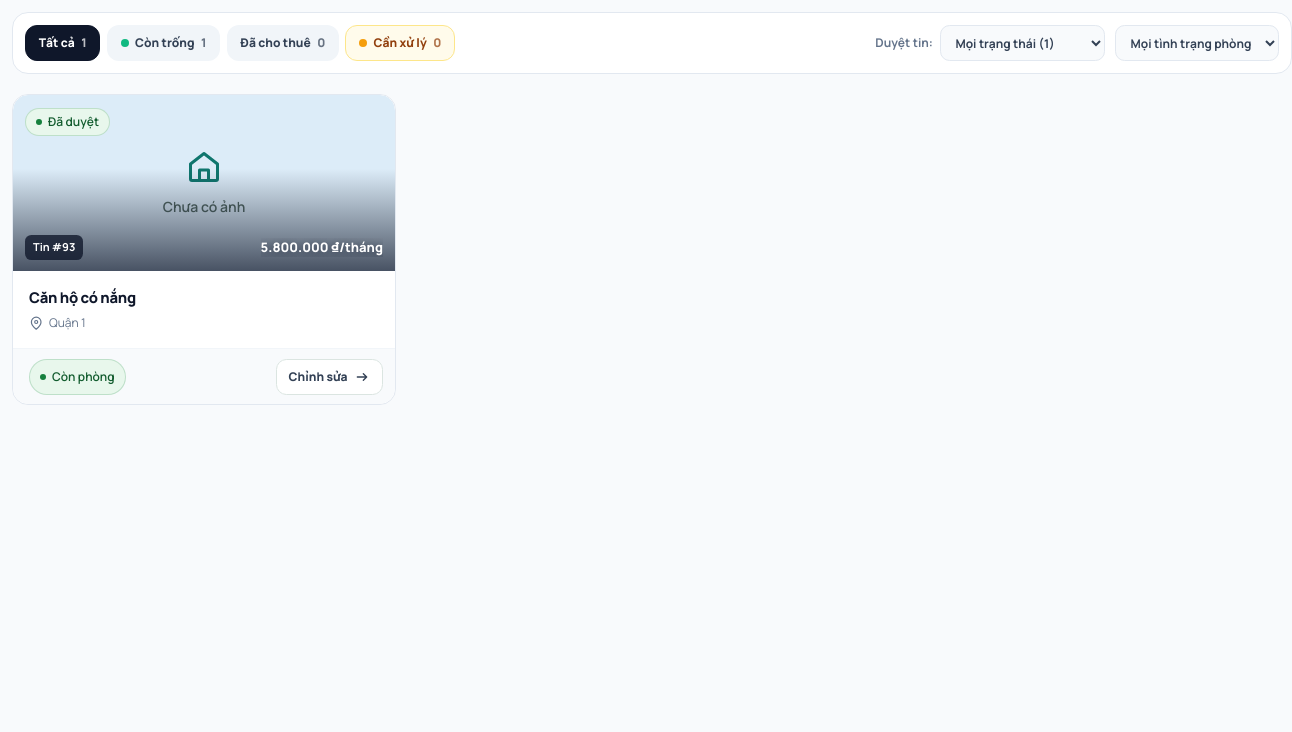
Test: OwnerListingsPage › opens a selected listing in the quick inspection panel and closes it without changing the route
The width and height of the screenshot is (1292, 732).
Click the button with aria-label "Xem chi tiết chỗ ở: Căn hộ có nắng" at (204, 183), box [13,95,395,271]
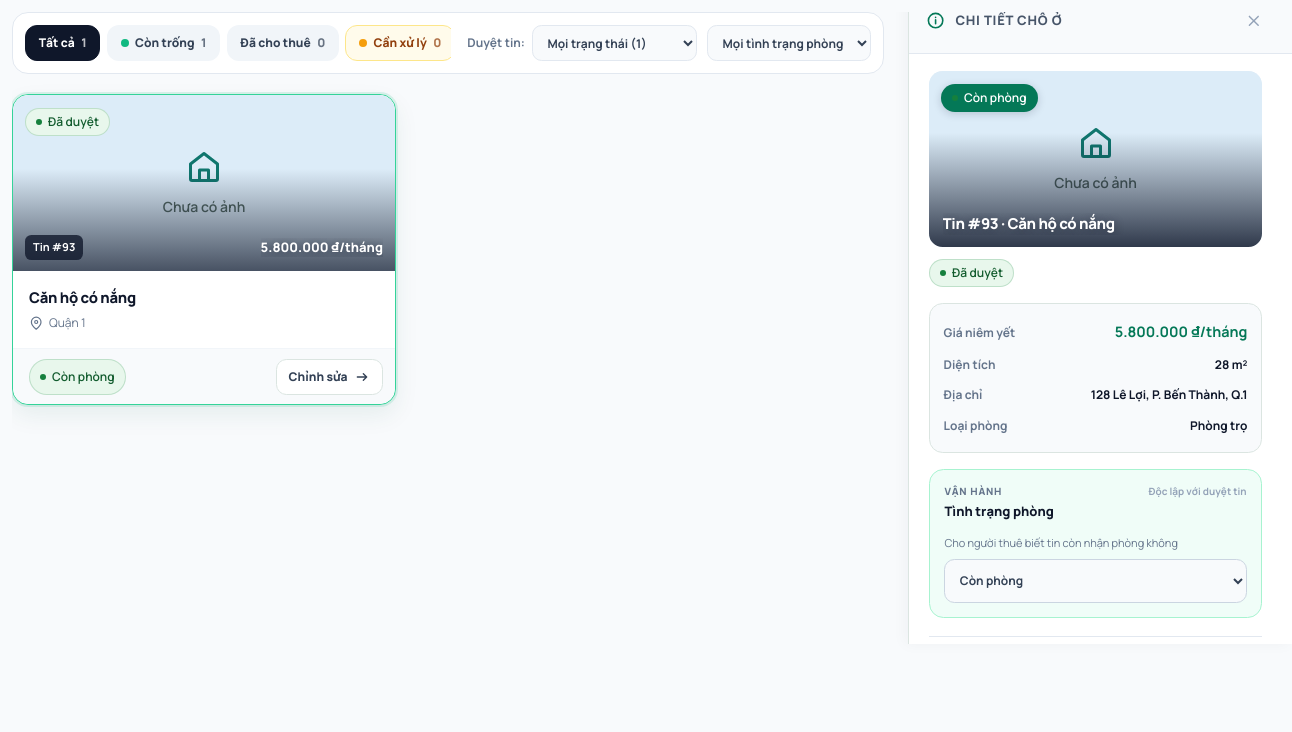
Expected: the text "128 Lê Lợi, P. Bến Thành, Q.1" is shown, [1091,386,1247,403]
Expected: the text "5.800.000 ₫/tháng" is shown, [1115,322,1247,341]
Expected: the text "Phòng trọ" is shown, [1190,417,1247,434]
Press Escape
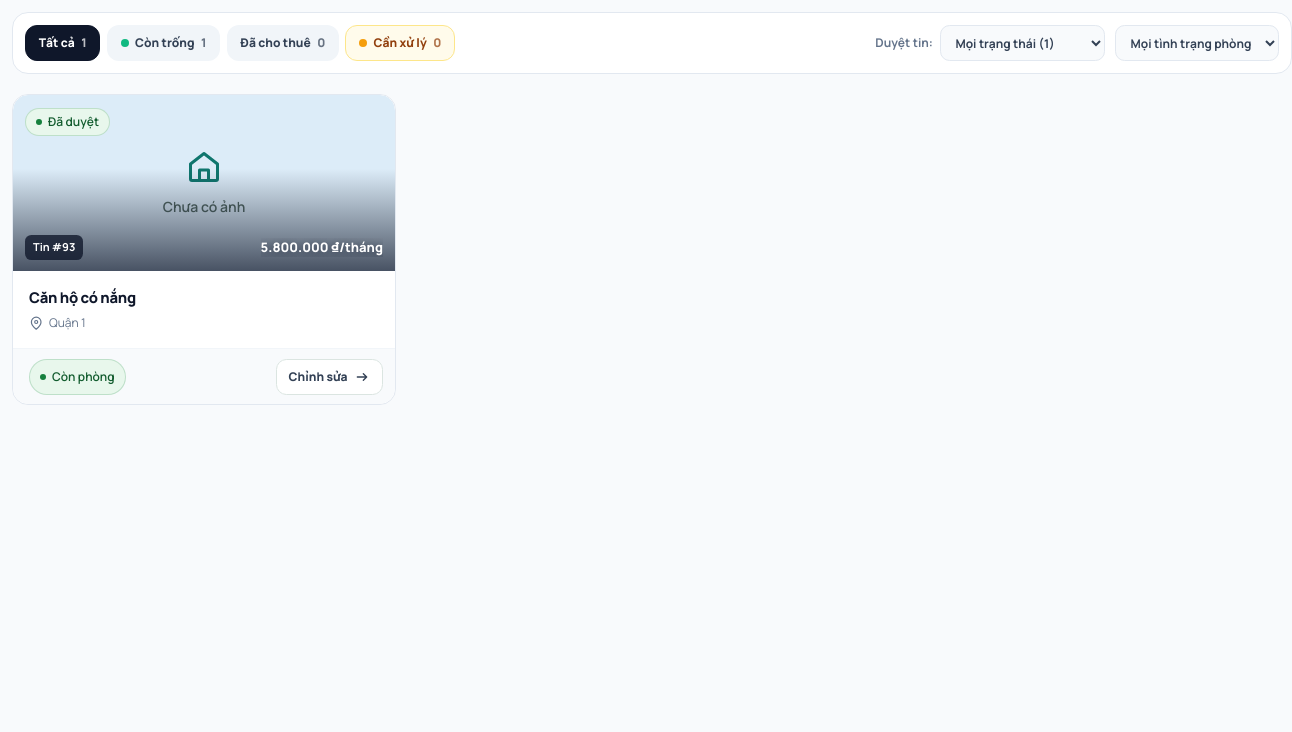
Expected: the heading "Chi tiết chỗ ở" is gone
